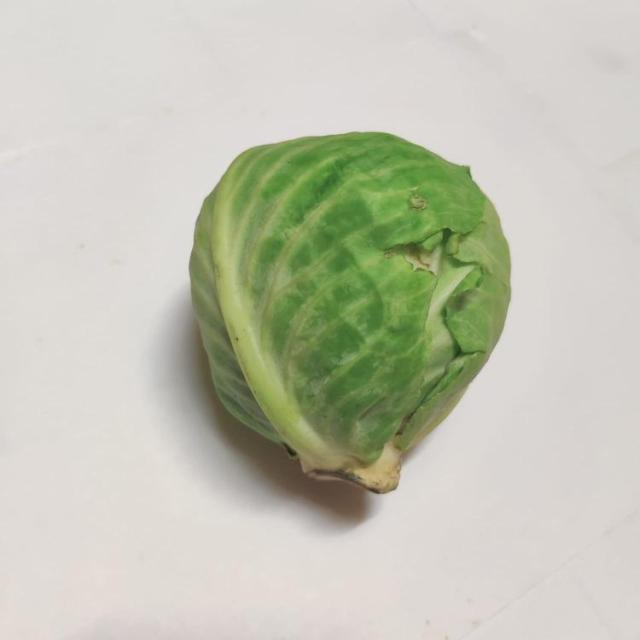Organik: (173, 112, 523, 494)
